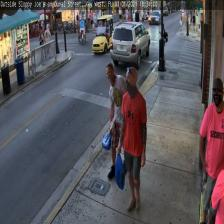person: (118, 66, 146, 210), (198, 77, 224, 223), (105, 63, 127, 179)
